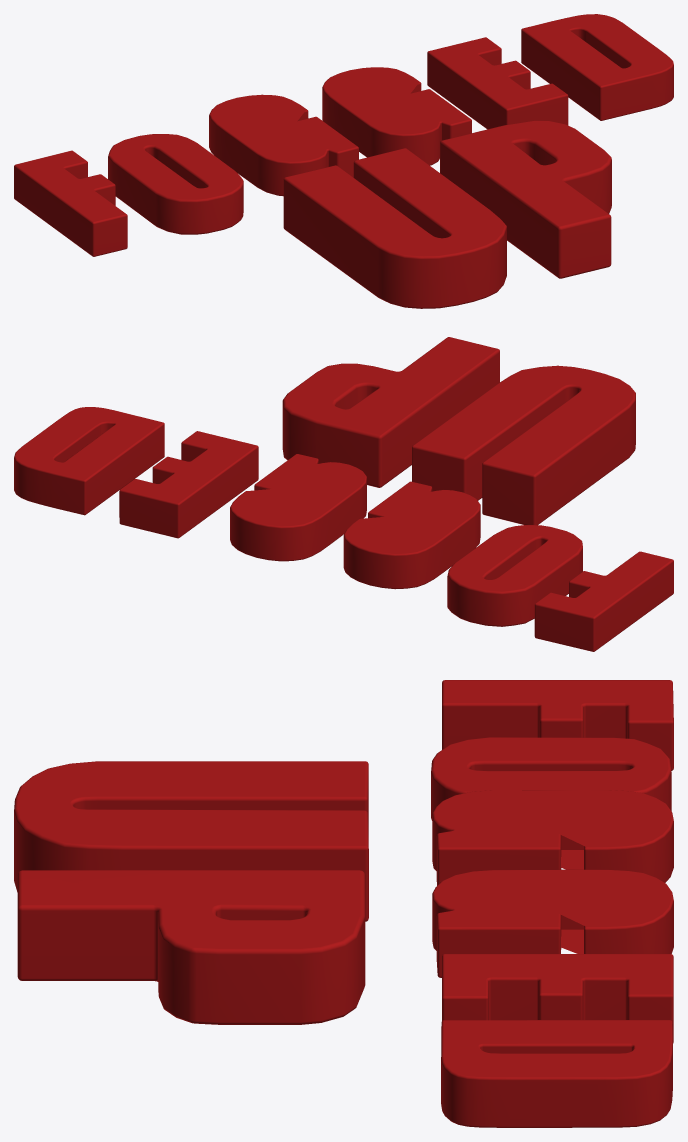
File: Schrift Title.fbx
The picture shows the model from 3 angles, top to bottom: view 1: azimuth 30°, elevation 25°; view 2: azimuth 150°, elevation 25°; view 3: azimuth 270°, elevation 25°; orthographic projection. The views are drawn at different scales.
Visible parts, largest first — view 1: Letter_U, Letter_P, Letter_D, Letter_O, Letter_G, Letter_G.001, Letter_E, Letter_F; view 2: Letter_U, Letter_P, Letter_D, Letter_G, Letter_G.001, Letter_O, Letter_E, Letter_F; view 3: Letter_P, Letter_U, Letter_D, Letter_G.001, Letter_G, Letter_E, Letter_F, Letter_O.
Part boxes in pixels (x1,y1,x2,y2): Letter_U: (283,148,506,308); Letter_P: (440,120,611,278); Letter_D: (521,14,673,120); Letter_O: (108,134,243,234); Letter_G: (209,94,358,196); Letter_G.001: (322,67,471,165); Letter_E: (427,37,568,129); Letter_F: (14,150,127,256); Letter_U: (412,365,635,524); Letter_P: (282,337,499,487); Letter_D: (14,407,164,515); Letter_G: (343,481,480,589); Letter_G.001: (230,454,366,561); Letter_O: (447,525,582,626); Letter_E: (119,431,258,538); Letter_F: (534,551,673,651); Letter_P: (17,870,365,1024); Letter_U: (14,761,368,921); Letter_D: (441,1020,672,1127); Letter_G.001: (432,869,673,977); Letter_G: (432,790,673,885); Letter_E: (442,954,673,1043); Letter_F: (442,680,673,770); Letter_O: (431,737,671,820).
Size of the model in its own units: 16.33 by 1.65 by 10.93.
Materials: 3 (3 with a texture image).
